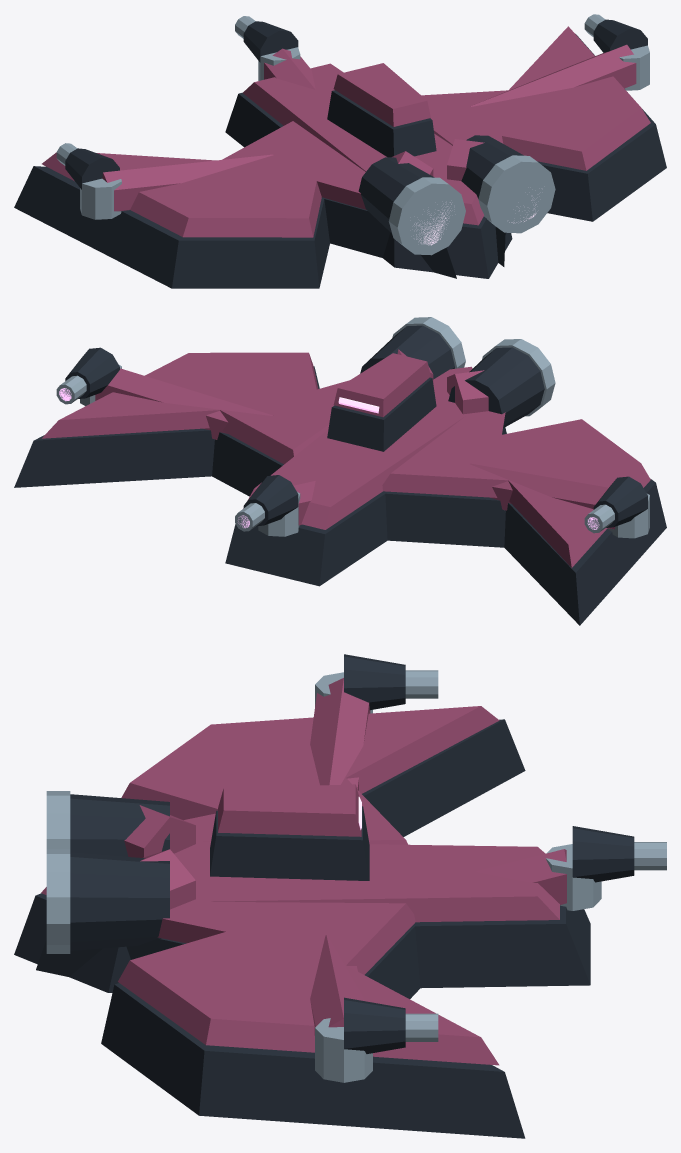
Rendered from c2_miniHarpy.glb.
The picture shows the model from 3 angles, top to bottom: view 1: azimuth 30°, elevation 25°; view 2: azimuth 150°, elevation 25°; view 3: azimuth 270°, elevation 25°; orthographic projection. The views are drawn at different scales.
Parts seen in each view (by area): view 1: miniHarpy / Armor, miniHarpy / Chassis, miniHarpy / Titanium; view 2: miniHarpy / Armor, miniHarpy / Chassis, miniHarpy / Titanium, miniHarpy / Energy; view 3: miniHarpy / Armor, miniHarpy / Chassis, miniHarpy / Titanium.
Boxes of the visible parts, x1,y1,x2,y2 form: miniHarpy / Armor: (42, 26, 650, 237); miniHarpy / Chassis: (14, 19, 666, 288); miniHarpy / Titanium: (56, 14, 649, 255); miniHarpy / Armor: (42, 349, 650, 567); miniHarpy / Chassis: (14, 325, 666, 625); miniHarpy / Titanium: (56, 317, 649, 538); miniHarpy / Energy: (59, 388, 599, 529); miniHarpy / Armor: (41, 678, 566, 1065); miniHarpy / Chassis: (14, 654, 634, 1138); miniHarpy / Titanium: (46, 670, 666, 1082).
Size of the model in its own units: 2.4 by 0.473 by 1.8.
